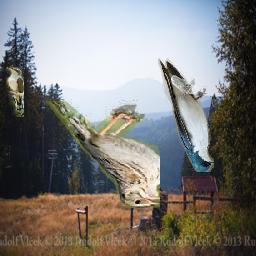Cuckoo: (6, 67, 24, 117)
Sparrow: (44, 98, 160, 208)
Swallow: (158, 58, 214, 172)
